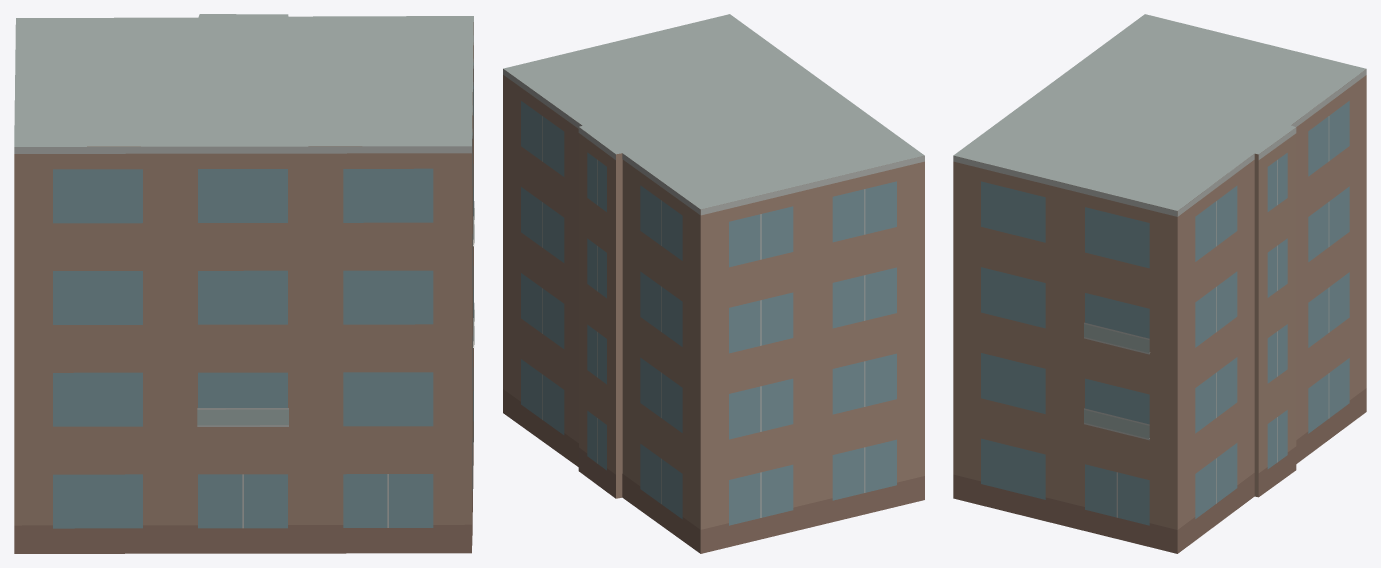
Rendered from survey-upis-32709505.glb.
3 views of the same model, side by side, from view 1: azimuth 30°, elevation 25°; view 2: azimuth 150°, elevation 25°; view 3: azimuth 270°, elevation 25° (orthographic). The views are drawn at different scales.
Visible parts, largest first — view 1: survey-upis-32709505.tmp; view 2: survey-upis-32709505.tmp; view 3: survey-upis-32709505.tmp.
Boxes of the visible parts, x1,y1,x2,y2 form: survey-upis-32709505.tmp: (14, 14, 474, 553); survey-upis-32709505.tmp: (503, 14, 924, 553); survey-upis-32709505.tmp: (953, 14, 1366, 553).
Size of the model in its own units: 17.26 by 14 by 15.31.
